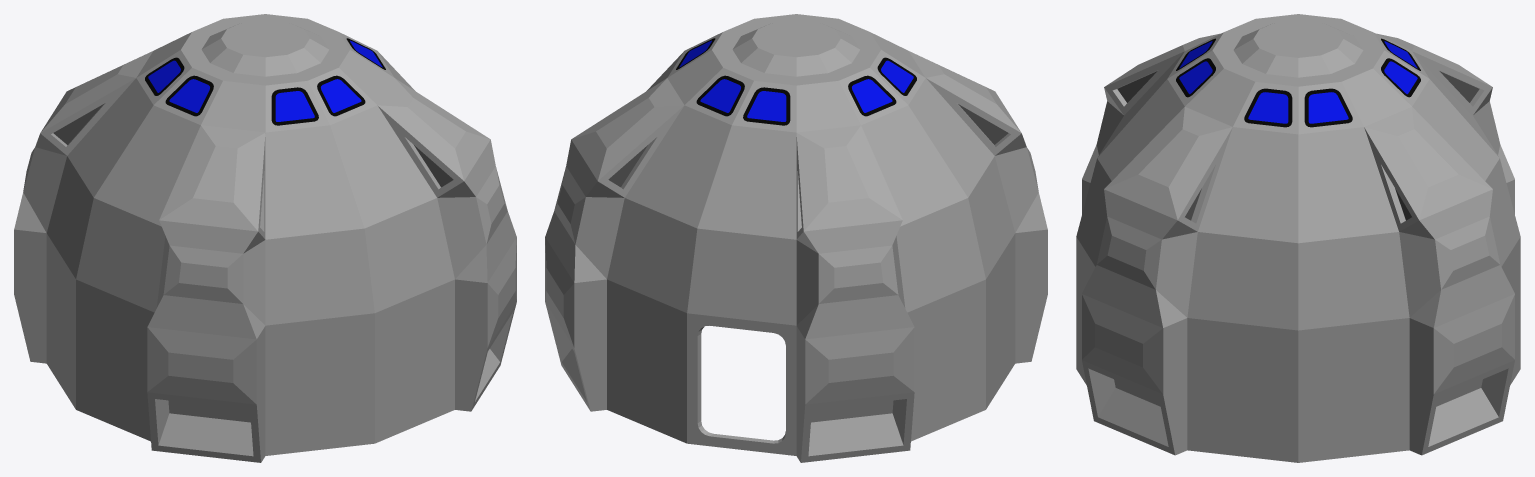
File: CapsuleC.fbx
The picture shows the model from 3 angles, left to right: view 1: azimuth 30°, elevation 25°; view 2: azimuth 150°, elevation 25°; view 3: azimuth 270°, elevation 25°; orthographic projection.
Visible parts, largest first — view 1: Body, Windows; view 2: Body, Windows; view 3: Body, Windows.
Part boxes in pixels (x1,y1,x2,y2): Body: [14, 14, 516, 462]; Windows: [148, 40, 382, 121]; Body: [545, 14, 1047, 462]; Windows: [679, 40, 913, 121]; Body: [1076, 14, 1520, 462]; Windows: [1179, 41, 1417, 123].
Size of the model in its own units: 610 by 500 by 610.
